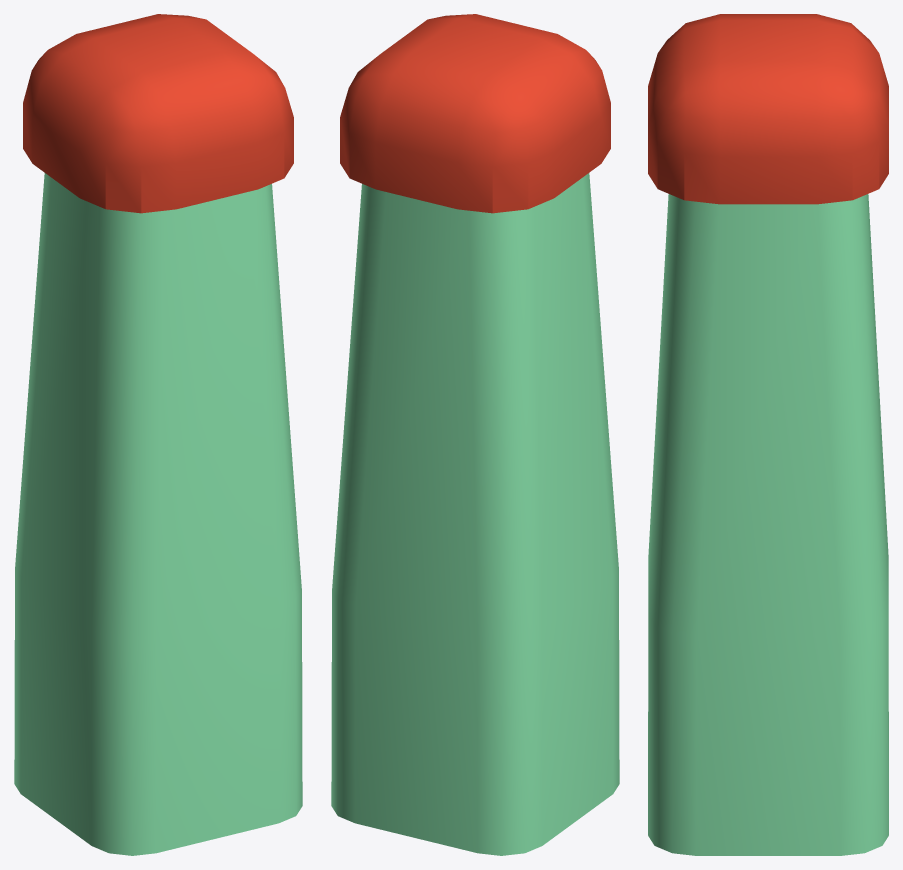
File: Thermos_Bottle.fbx
3 views of the same model, side by side, from view 1: azimuth 30°, elevation 25°; view 2: azimuth 150°, elevation 25°; view 3: azimuth 270°, elevation 25° (orthographic).
Visible parts, largest first — view 1: Thermos Bottle; view 2: Thermos Bottle; view 3: Thermos Bottle.
Boxes of the visible parts, x1,y1,x2,y2 form: Thermos Bottle: (14,14,302,855); Thermos Bottle: (331,14,619,855); Thermos Bottle: (648,14,888,855).
Bounding box in the file's own units: 10 × 35 × 10.
